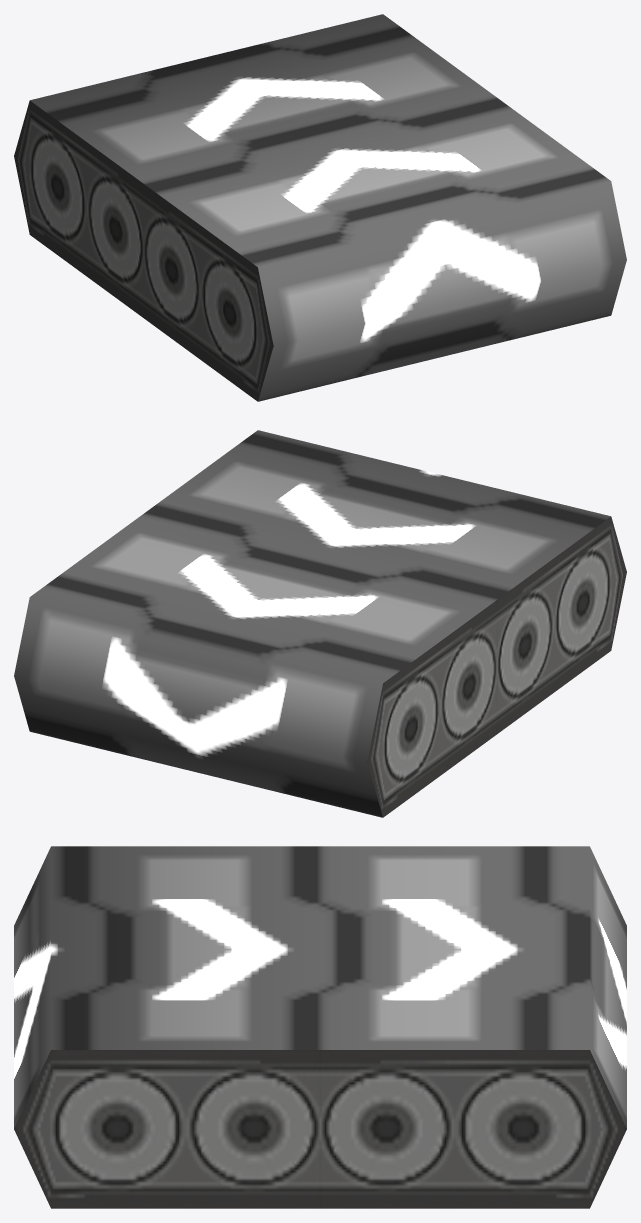
File: belt.gltf
The picture shows the model from 3 angles, top to bottom: view 1: azimuth 30°, elevation 25°; view 2: azimuth 150°, elevation 25°; view 3: azimuth 270°, elevation 25°; orthographic projection. The views are drawn at different scales.
Parts seen in each view (by area): view 1: Plane.022, Plane.023; view 2: Plane.022, Plane.023; view 3: Plane.022, Plane.023.
Part boxes in pixels (x1,y1,x2,y2): Plane.022: (30,14,626,401); Plane.023: (14,100,273,401); Plane.022: (14,430,610,817); Plane.023: (367,516,626,817); Plane.022: (14,846,626,1128); Plane.023: (14,1050,626,1208).
Bounding box in the file's own units: 5.5 × 2 × 7.
2 materials, 2 textured.
